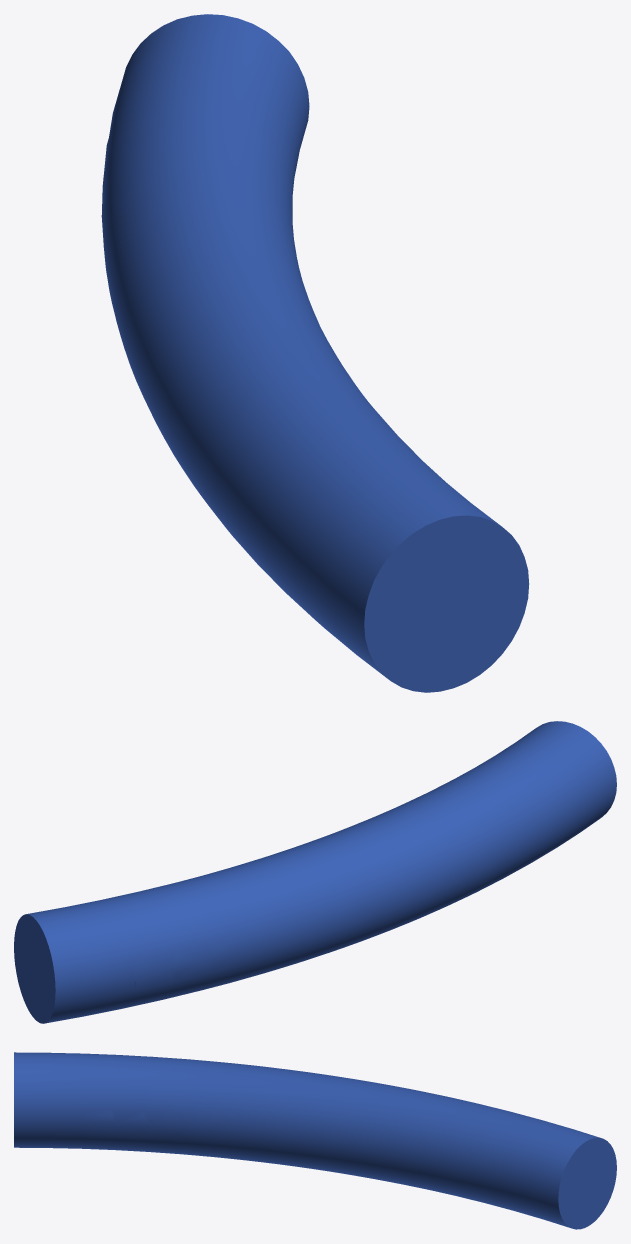
Rendered from Exc_Motor_5203_2402_0188_18.obj.
3 renders of one model, top to bottom at view 1: azimuth 30°, elevation 25°; view 2: azimuth 150°, elevation 25°; view 3: azimuth 270°, elevation 25°, orthographic. The views are drawn at different scales.
Visible parts, largest first — view 1: mesh28571; view 2: mesh28571; view 3: mesh28571.
Boxes of the visible parts, x1,y1,x2,y2 form: mesh28571: (101, 14, 529, 692); mesh28571: (14, 721, 616, 1023); mesh28571: (14, 1052, 616, 1229).
Size of the model in its own units: 0.00237 by 0.000797 by 0.00506.
